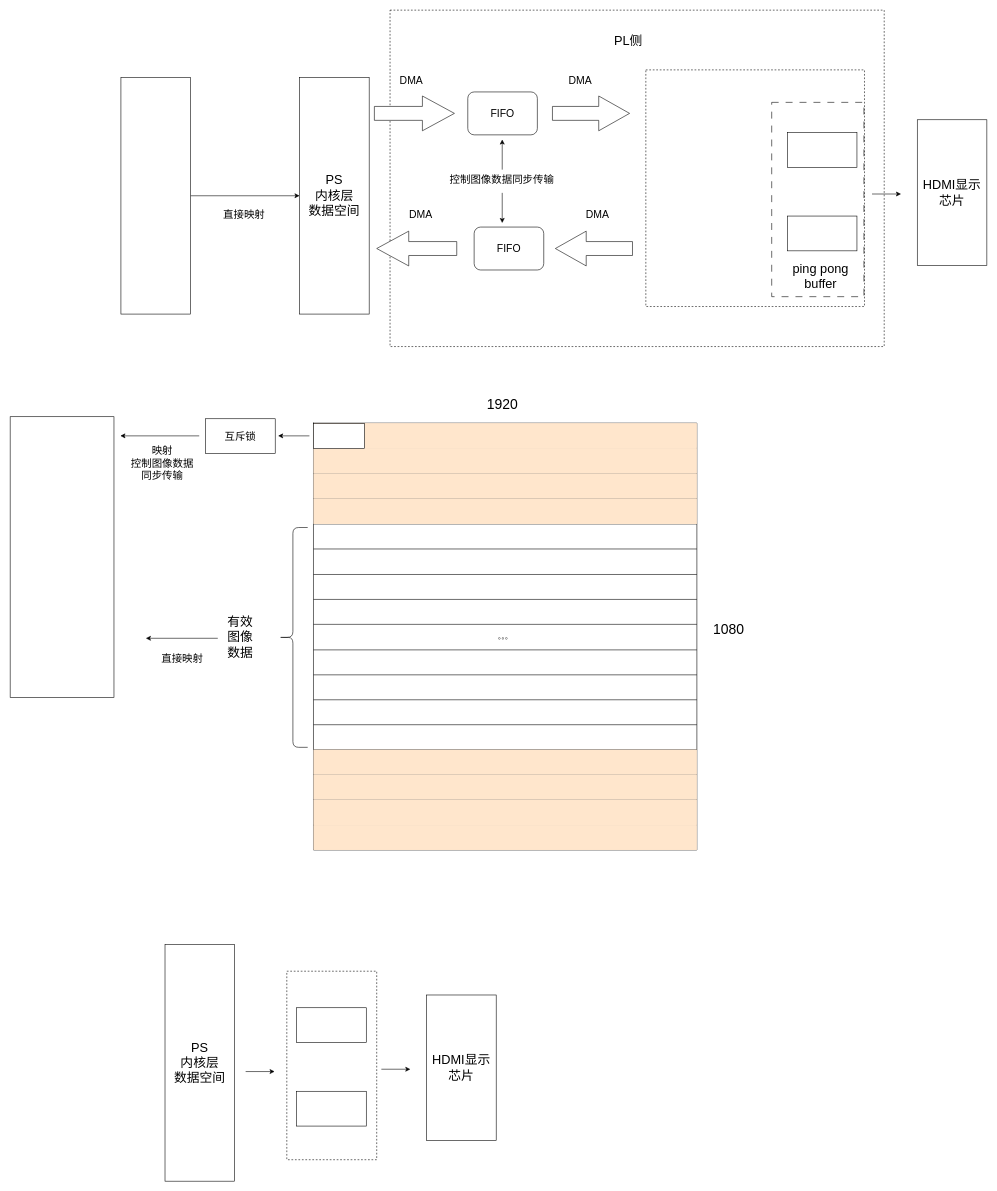
Some shapes in this 997 by 1191 pixel diagram are drawn without their labels. The box of each missing label's shape, as (x1, y1, x2, y2) in pixels:
PL侧 数据空间: (645, 69, 864, 307)
PS 应用层 数据空间: (120, 77, 191, 314)
应用层: (10, 416, 114, 697)
指针: (313, 423, 365, 449)
